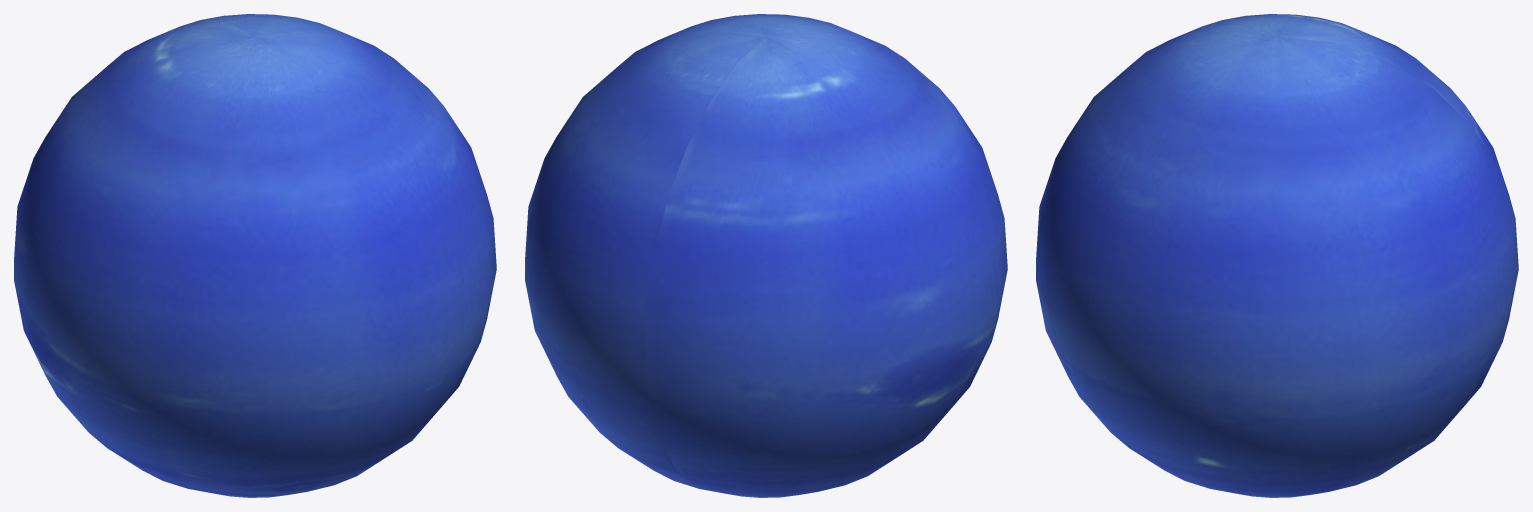
Rendered from neptune.FBX.
The picture shows the model from 3 angles, left to right: view 1: azimuth 30°, elevation 25°; view 2: azimuth 150°, elevation 25°; view 3: azimuth 270°, elevation 25°; orthographic projection.
Visible parts, largest first — view 1: Sun; view 2: Sun; view 3: Sun.
Part boxes in pixels (x1=…): Sun: x1=14, y1=14, x2=496, y2=497; Sun: x1=525, y1=14, x2=1007, y2=497; Sun: x1=1036, y1=14, x2=1518, y2=497.
Size of the model in its own units: 11.07 by 11.11 by 11.05.
Materials: 1 (1 with a texture image).
